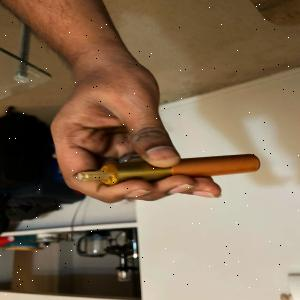Golden-E-Ciggirate: (76, 149, 266, 188)
